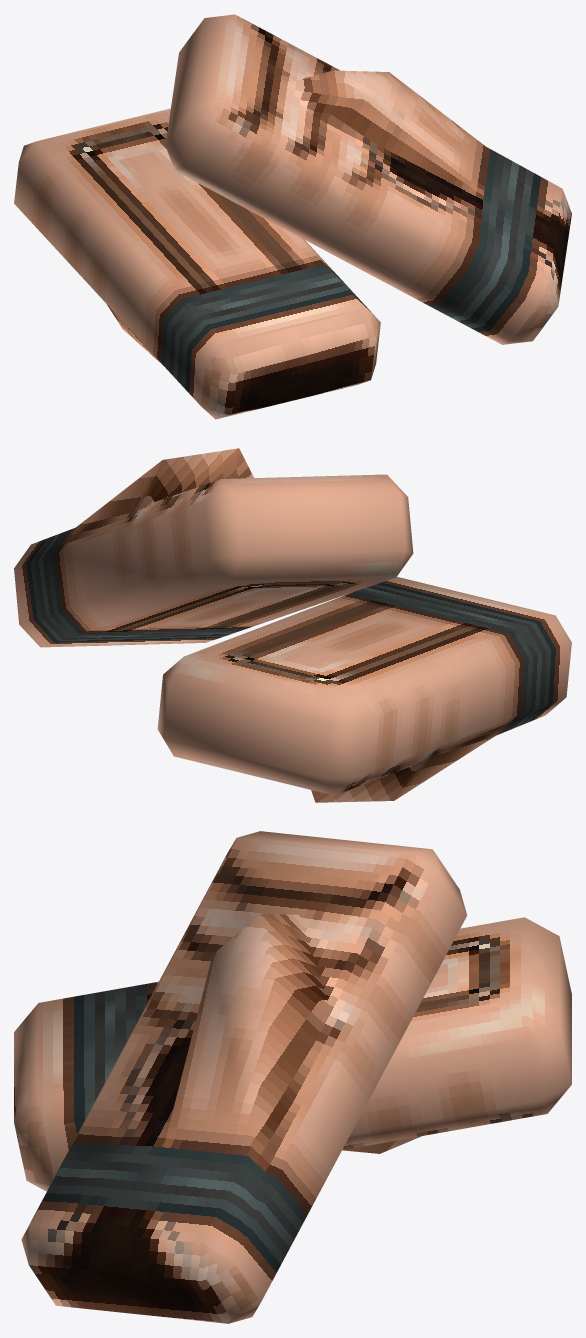
The model's file is a_SCglove01.glb.
3 views of the same model, one above another, from view 1: azimuth 30°, elevation 25°; view 2: azimuth 150°, elevation 25°; view 3: azimuth 270°, elevation 25° (orthographic). The views are drawn at different scales.
Visible parts, largest first — view 1: a_SCglove01; view 2: a_SCglove01; view 3: a_SCglove01.
Part boxes in pixels (x1,y1,x2,y2): a_SCglove01: (14, 14, 571, 419); a_SCglove01: (14, 448, 571, 802); a_SCglove01: (14, 831, 571, 1323).
Bounding box in the file's own units: 0.3081 × 0.1878 × 0.2685.
Materials: 1 (1 with a texture image).
